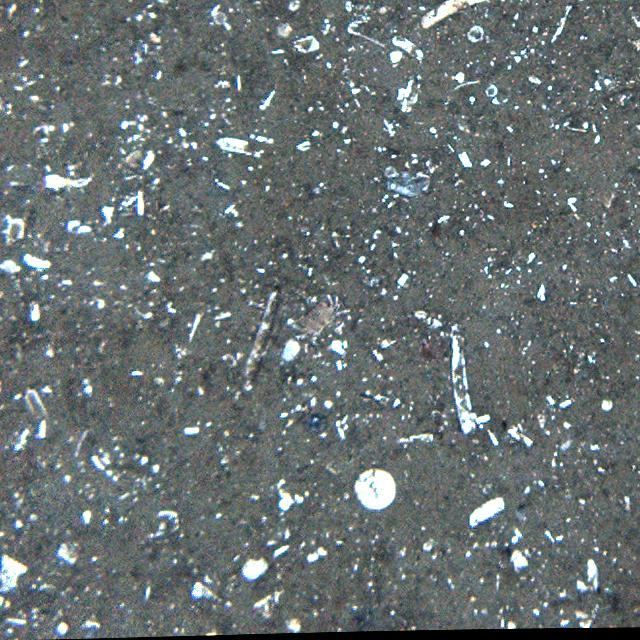crab: (292, 296, 348, 340)
